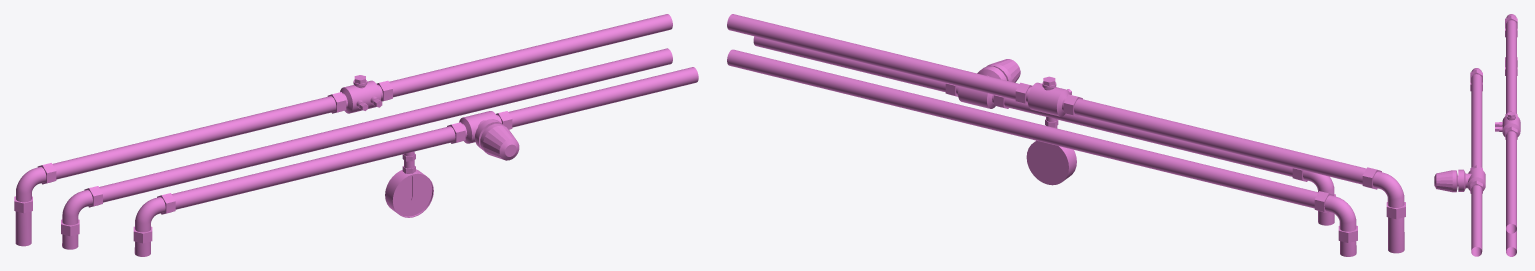
Rendered from AVCM270-PipesExternal.fbx.
3 views of the same model, side by side, from view 1: azimuth 30°, elevation 25°; view 2: azimuth 150°, elevation 25°; view 3: azimuth 270°, elevation 25° (orthographic). The views are drawn at different scales.
Visible parts, largest first — view 1: AVCM270-XL2-External, AVCM270-XL1-External, AVCM270-XL15-External, AVCM270-XL15-Pressure, AVCM270-XL15-KNOB; view 2: AVCM270-XL2-External, AVCM270-XL1-External, AVCM270-XL15-External, AVCM270-XL15-Pressure, AVCM270-XL15-KNOB; view 3: AVCM270-XL2-External, AVCM270-XL15-External, AVCM270-XL15-KNOB, AVCM270-XL1-External.
Boxes of the visible parts, bbox=[...] form: AVCM270-XL2-External: bbox=[14, 14, 672, 246]; AVCM270-XL1-External: bbox=[61, 48, 672, 249]; AVCM270-XL15-External: bbox=[133, 67, 698, 256]; AVCM270-XL15-Pressure: bbox=[385, 151, 433, 217]; AVCM270-XL15-KNOB: bbox=[480, 123, 519, 160]; AVCM270-XL2-External: bbox=[727, 14, 1405, 253]; AVCM270-XL1-External: bbox=[727, 49, 1357, 256]; AVCM270-XL15-External: bbox=[753, 36, 1335, 225]; AVCM270-XL15-Pressure: bbox=[1026, 117, 1076, 185]; AVCM270-XL15-KNOB: bbox=[986, 59, 1020, 82]; AVCM270-XL2-External: bbox=[1495, 14, 1520, 233]; AVCM270-XL15-External: bbox=[1458, 68, 1485, 256]; AVCM270-XL15-KNOB: bbox=[1434, 170, 1458, 192]; AVCM270-XL1-External: bbox=[1505, 57, 1517, 256].
Bounding box in the file's own units: 140 × 25.29 × 23.61.
